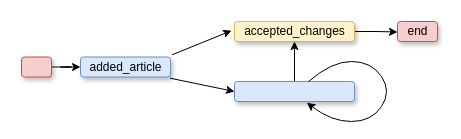
The diagram is 461 pixels wide and 139 high, and some of its shapes have lost their labels. The shapes that lost their labels are listed below. From the top down, each one's centre as x and y in pixels, then its label:
At point 37,68: "init".
At point 295,92: "proposed_changes".
